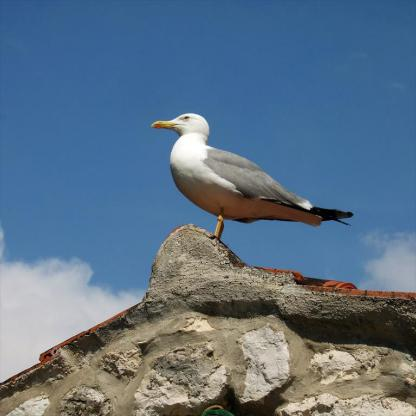Bird: (148, 118, 338, 246)
